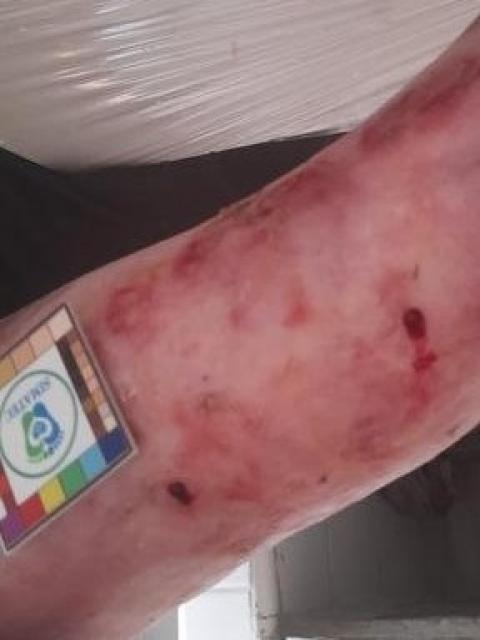wound: (402, 307, 438, 374), (166, 479, 198, 507)
